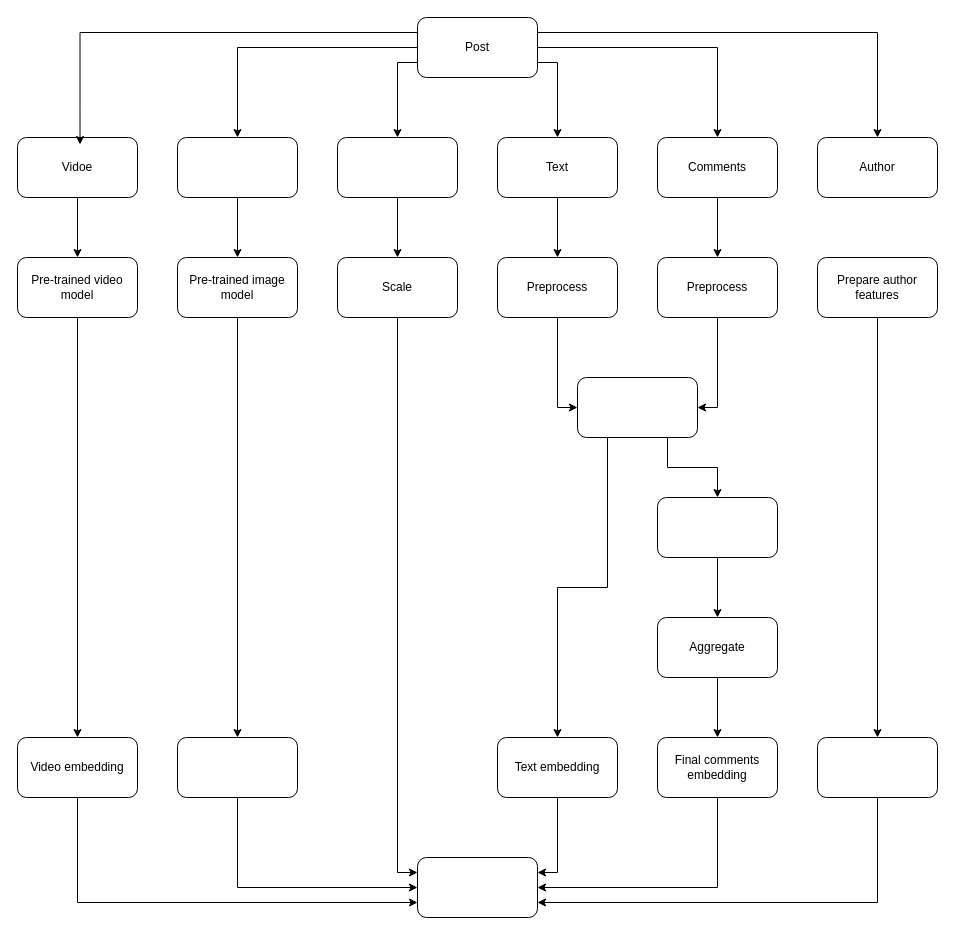
Some shapes in this 955 by 935 pixel diagram are drawn without their labels. Each missing label, with the box of its shape:
Author embedding: (816, 736, 938, 798)
Embeddings for each comment: (656, 496, 778, 558)
Fused features: (416, 856, 538, 918)
Image: (176, 136, 298, 198)
Image embedding: (176, 736, 298, 798)
Number of repots, likes, comment, shares: (336, 136, 458, 198)
Pre-trained text model: (576, 376, 698, 438)
